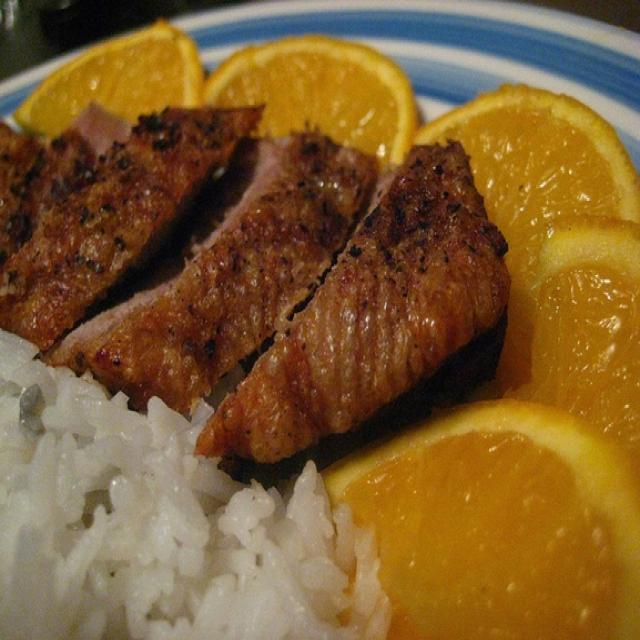米饭主食: (3, 74, 516, 625)
